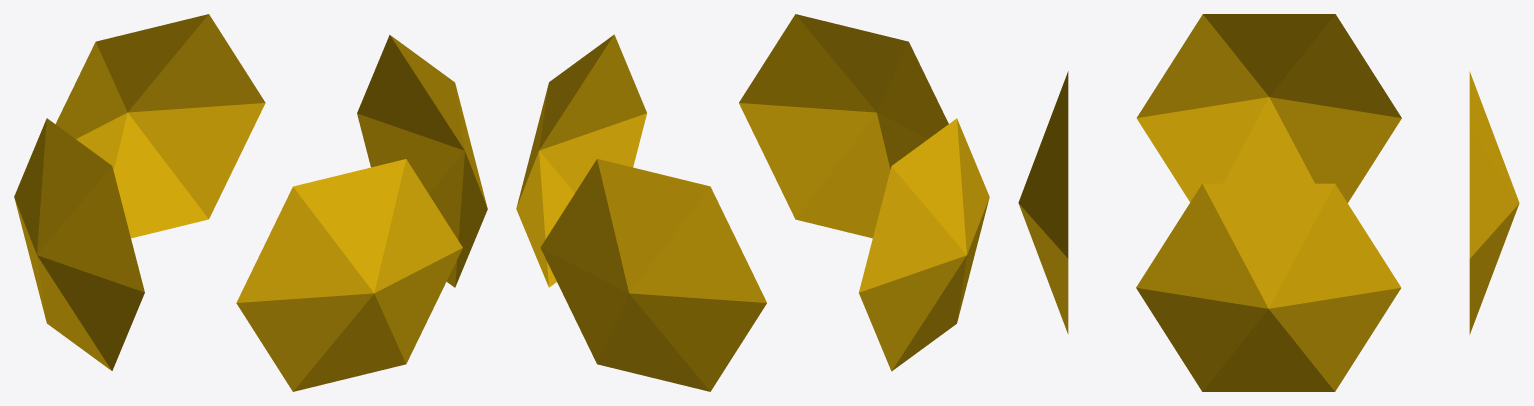
The model's file is SL_t1_f-sTL_LIGHT.fbx.
3 views of the same model, side by side, from view 1: azimuth 30°, elevation 25°; view 2: azimuth 150°, elevation 25°; view 3: azimuth 270°, elevation 25° (orthographic).
Visible parts, largest first — view 1: SL_t1_f-sTL_LIGHT; view 2: SL_t1_f-sTL_LIGHT; view 3: SL_t1_f-sTL_LIGHT.
Boxes of the visible parts, bbox=[...] form: SL_t1_f-sTL_LIGHT: bbox=[14, 14, 487, 391]; SL_t1_f-sTL_LIGHT: bbox=[516, 14, 989, 391]; SL_t1_f-sTL_LIGHT: bbox=[1018, 14, 1519, 391].
Size of the model in its own units: 0.3114 by 0.1429 by 0.3114.
